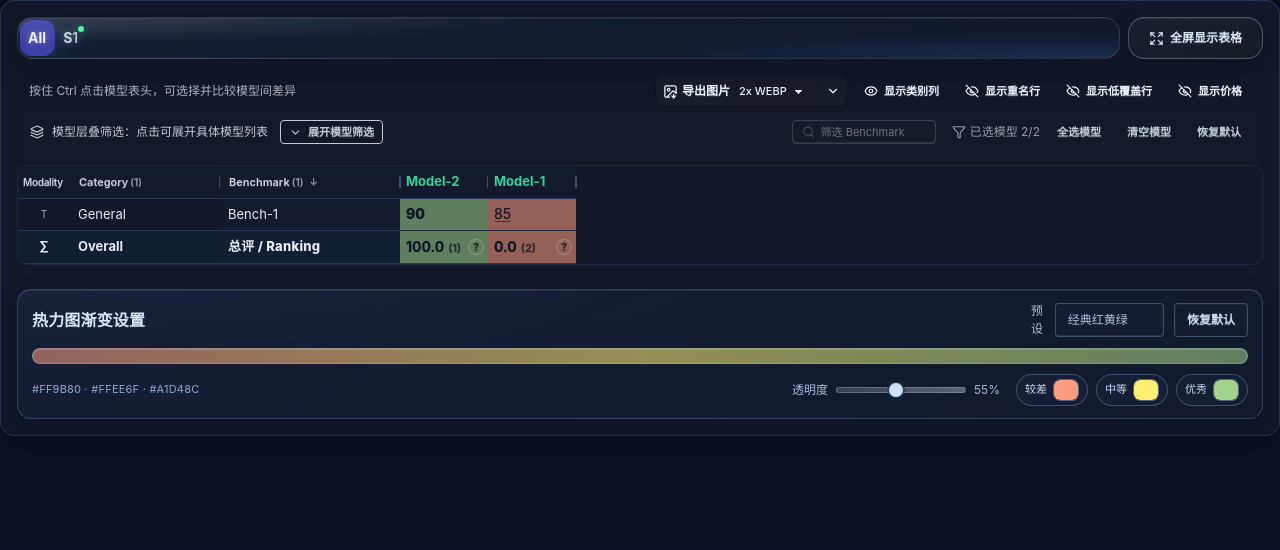
Test: BenchmarkMatrix 价格空行隐藏集成测试 › 若某个模型包含缓存读价格，则 Cache Input Price 行正常显示
The image size is (1280, 550).
Click the button "显示价格". click: {"x": 1210, "y": 91}
box: [1169,79,1251,103]
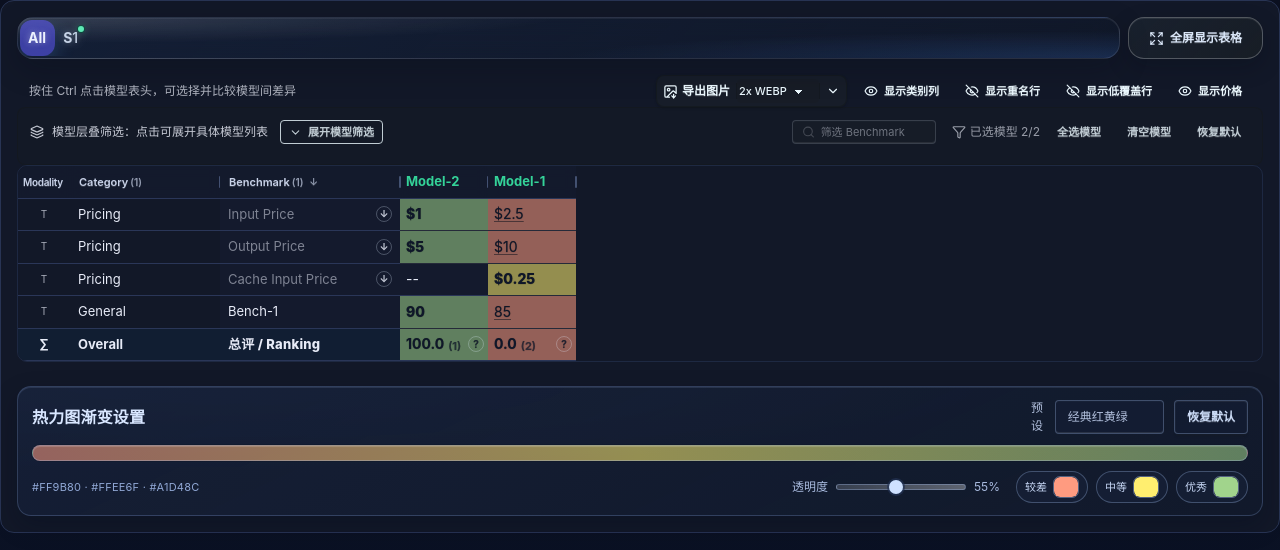
Result: the text "Input Price" is shown at [228,206,294,222]
Result: the text "Output Price" is shown at [228,238,305,254]
Result: the text "Cache Input Price" is shown at [228,271,337,287]
